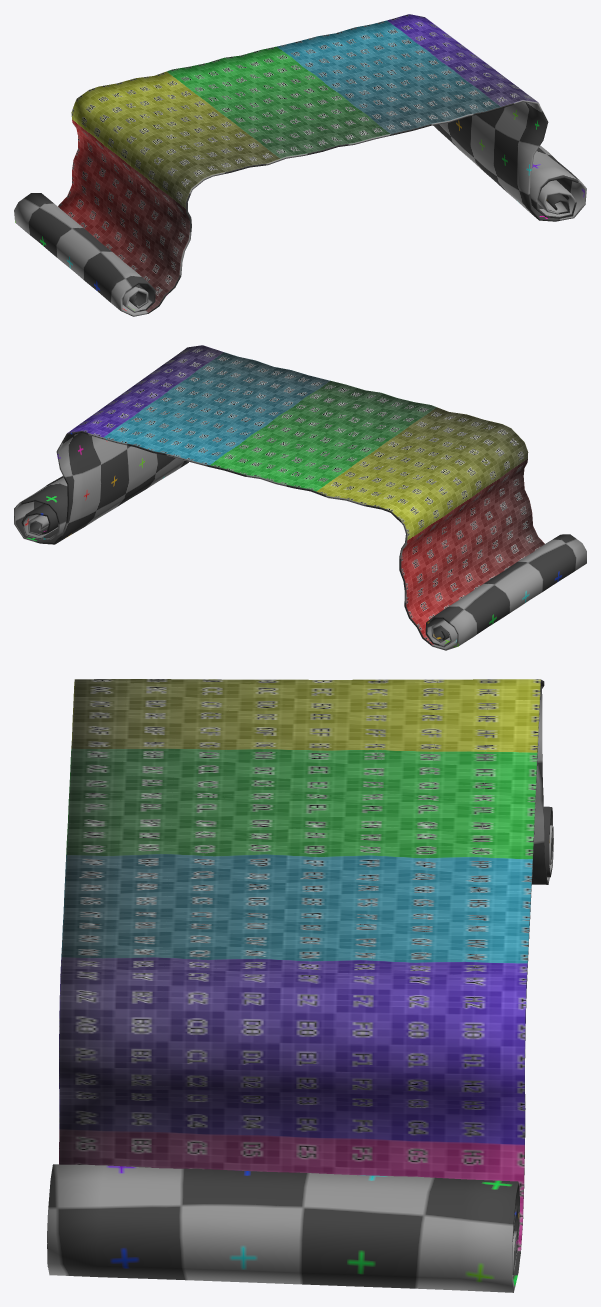
File: tapestry.glb
3 renders of one model, top to bottom at view 1: azimuth 30°, elevation 25°; view 2: azimuth 150°, elevation 25°; view 3: azimuth 270°, elevation 25°, orthographic. The views are drawn at different scales.
Parts seen in each view (by area): view 1: Tapestry; view 2: Tapestry; view 3: Tapestry.
Boxes of the visible parts, left/top/right/bottom form: Tapestry: left=14, top=14, right=586, bottom=316; Tapestry: left=14, top=345, right=586, bottom=650; Tapestry: left=47, top=679, right=553, bottom=1292.
Bounding box in the file's own units: 7.51 × 1.95 × 3.53.
Materials: 2 (2 with a texture image).
